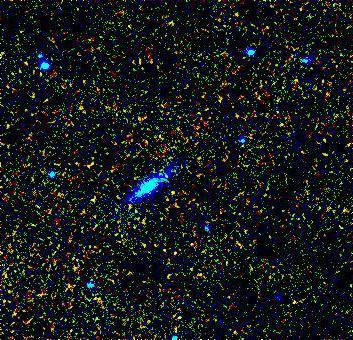star: (159, 176, 189, 206)
